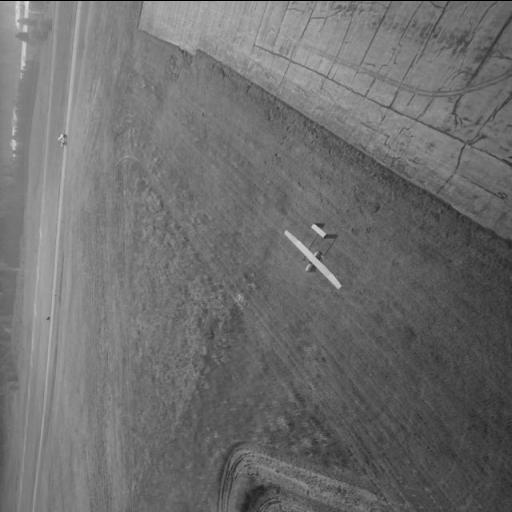uav: (280, 214, 356, 289)
